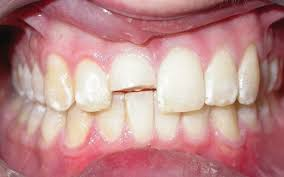decay: (29, 64, 43, 104), (17, 63, 33, 97), (9, 66, 23, 95)
normal: (155, 49, 204, 113), (206, 48, 238, 107), (75, 61, 110, 111), (125, 91, 155, 141), (155, 96, 179, 146), (98, 97, 123, 142), (240, 46, 258, 104), (184, 106, 209, 146), (41, 111, 62, 149), (240, 101, 258, 134), (258, 57, 271, 94), (257, 99, 273, 129), (272, 95, 284, 123), (30, 106, 41, 134), (271, 61, 280, 89), (21, 102, 28, 125)
rough: (110, 55, 155, 95)
yellow: (42, 53, 72, 112), (62, 109, 94, 151), (209, 107, 241, 142)
